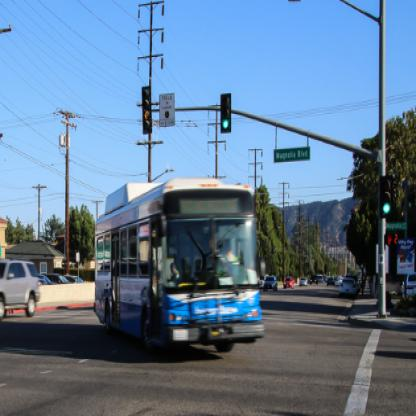green: (379, 173, 395, 218), (220, 93, 231, 133)
